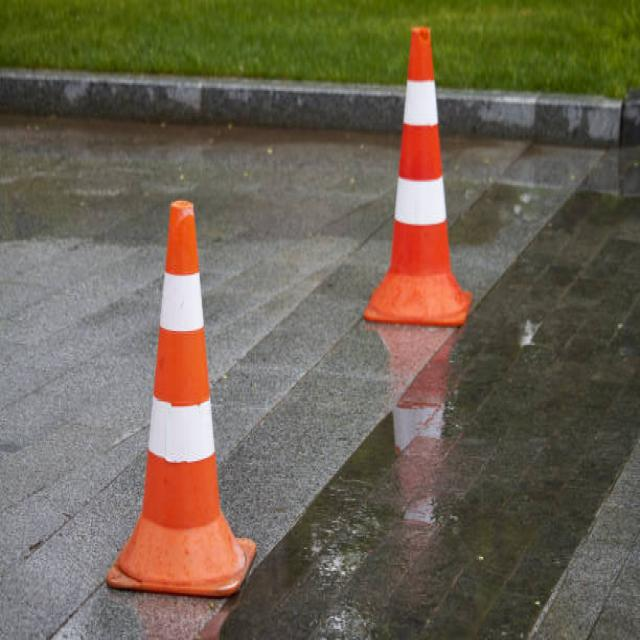Traffic Cone: (87, 154, 277, 620), (343, 2, 480, 338)
